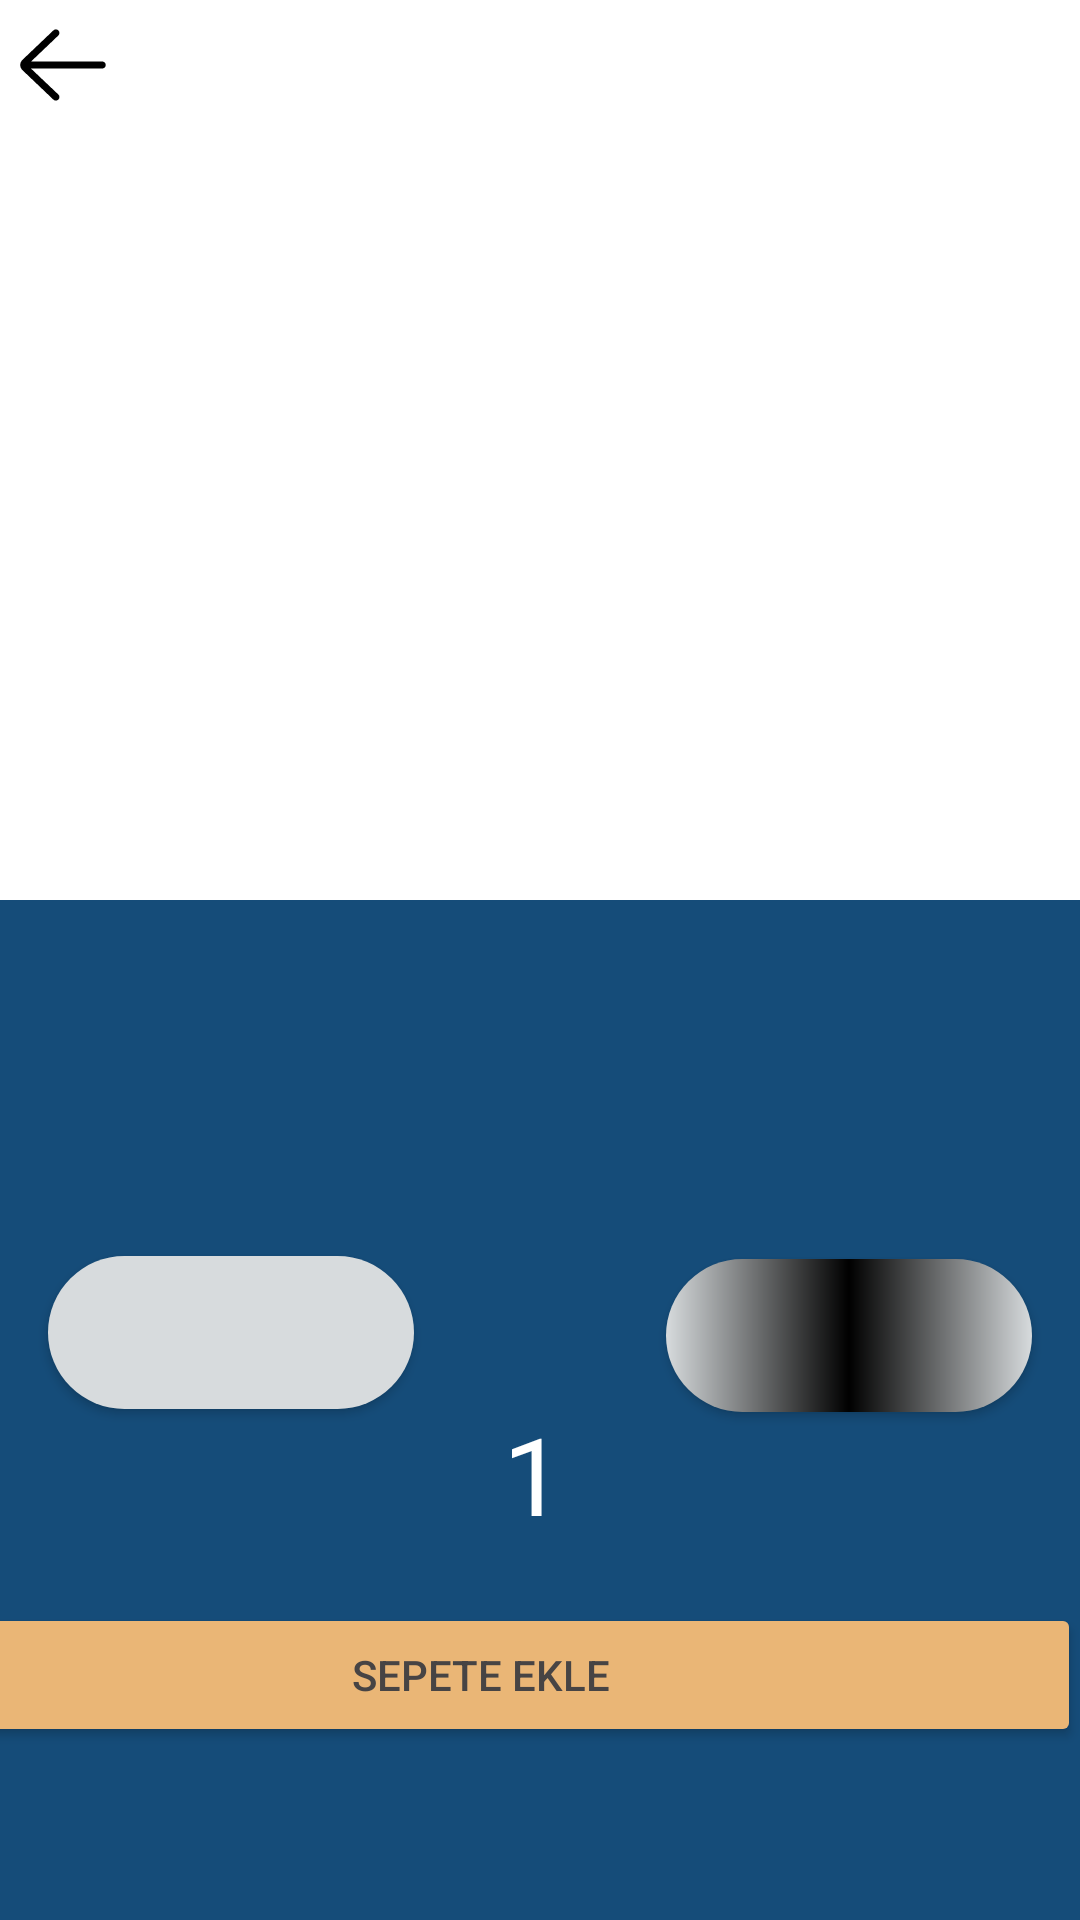

Locate icon controls on the screen. Image size 1080*1920, boxes as (x1, y1, x2, y2).
left arrow: (20, 29, 106, 101)
